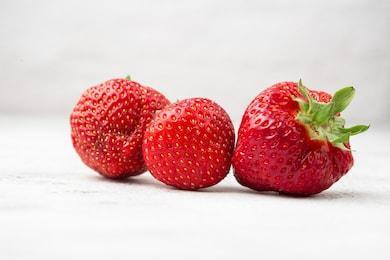Fresa: (230, 77, 358, 200), (66, 75, 174, 184), (138, 95, 237, 194)
